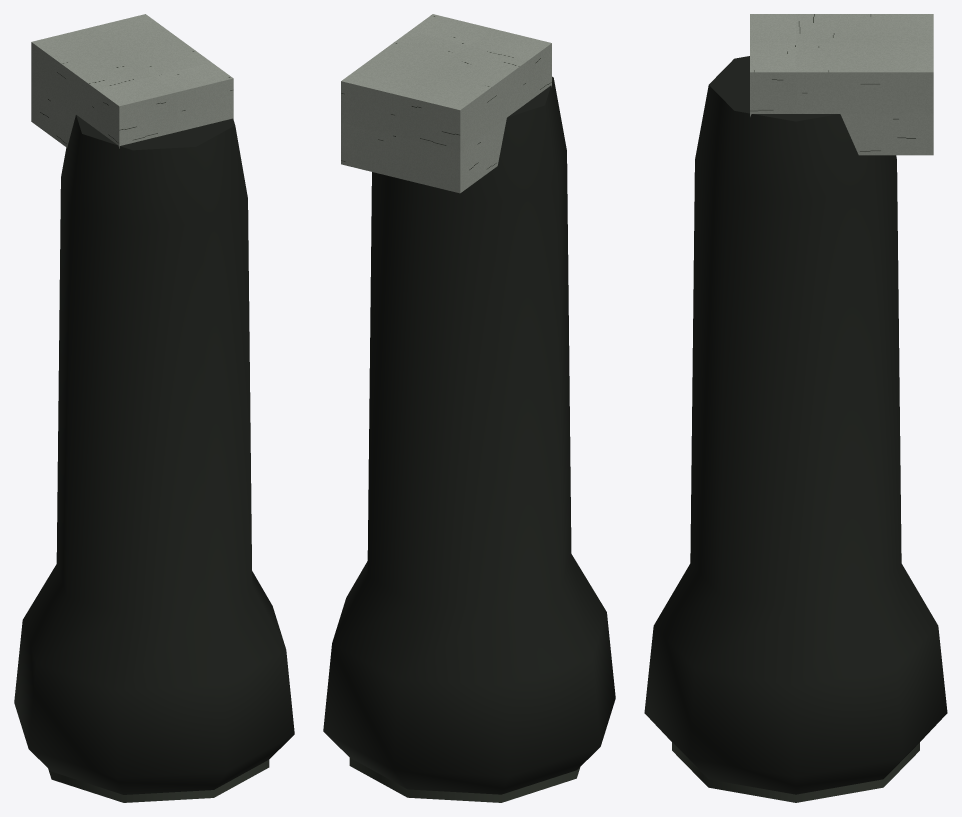
The model's file is SM_FieldKit_Handset_LOD1.fbx.
3 views of the same model, side by side, from view 1: azimuth 30°, elevation 25°; view 2: azimuth 150°, elevation 25°; view 3: azimuth 270°, elevation 25° (orthographic). The views are drawn at different scales.
Visible parts, largest first — view 1: SM_FieldKit_Handset_LOD1; view 2: SM_FieldKit_Handset_LOD1; view 3: SM_FieldKit_Handset_LOD1.
Boxes of the visible parts, x1,y1,x2,y2 form: SM_FieldKit_Handset_LOD1: (14,14,294,802); SM_FieldKit_Handset_LOD1: (323,14,615,802); SM_FieldKit_Handset_LOD1: (644,14,947,802).
Bounding box in the file's own units: 0.066 × 0.066 × 0.172.
